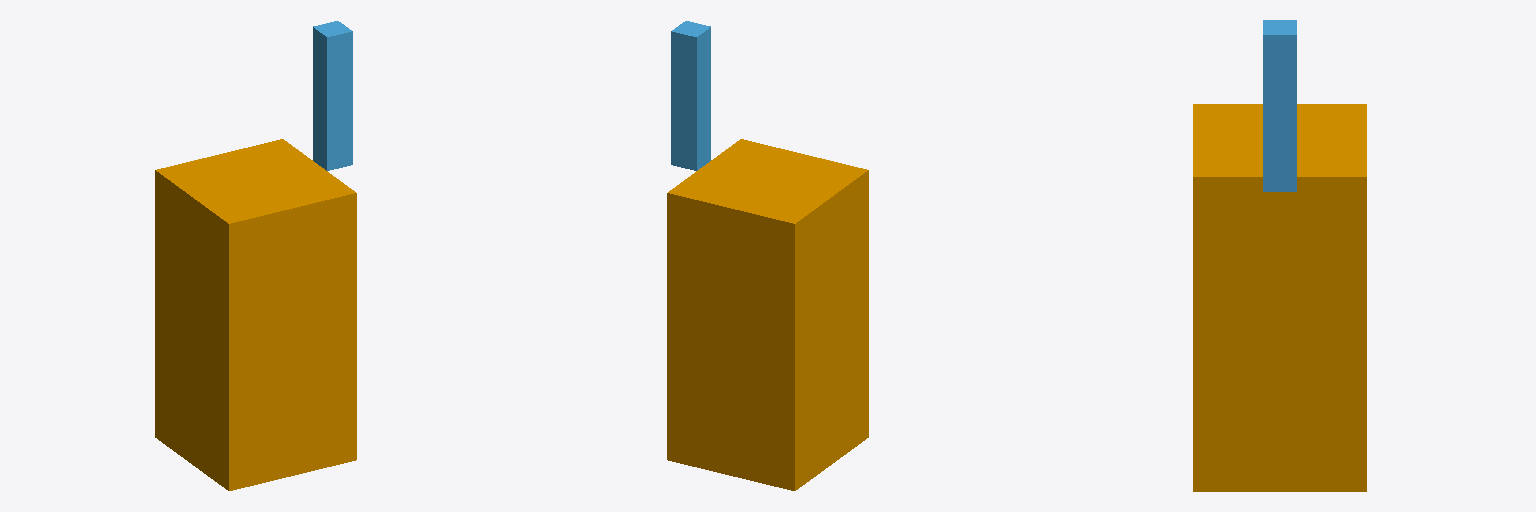
The robot description file, URDF, robot "my_robot":
<?xml version="1.0" ?>
<robot name="my_robot" xmlns:xacro="http://www.ros.org/wiki/xacro">
    
    <!-- 1st link -->
  <link name="link_chassis">
    <pose>0 0 0.1 0 0 0</pose>
    
    <inertial>
      <mass value="5"/>
      <origin xyz="0 0 0.1" rpy="0 0 0"/>
      <inertia ixx="0.0395416666667" ixy="0" ixz="0" iyy="0.106208333333" iyz="0" izz="0.106208333333"/>
    </inertial>
    
    <collision name="collision_chassis">
      <geometry>
        <box size="1 1 2"/>
      </geometry>
    </collision>
    
    <visual>
      <origin rpy="0 0 0" xyz="0 0 0"/>
      <geometry>
        <box size="1 1 2"/>
      </geometry>
    </visual>
  </link>
  
  <joint name="joint1" type="continuous">
    <origin xyz="0.6 0 1" rpy="0 0 0"/>
    <parent link="link_chassis"/>
    <child link="link_arm"/>
  </joint>
  
  <!-- 2nd link -->
  <link name="link_arm">
    <pose>0 0 0 0 0 0</pose>
    
    <inertial>
      <mass value="0.5"/>
      <origin xyz="0 0 0" rpy="0 0 0"/>
      <inertia ixx="0.0395416666667" ixy="0" ixz="0" iyy="0.106208333333" iyz="0" izz="0.106208333333"/>
    </inertial>
    
    <collision name="collision_chassis">
      <origin xyz="0 0 0.5" rpy="0 0 0"/>
      <geometry>
        <box size="0.2 0.2 1"/>
      </geometry>
    </collision>
    
    <visual>
      <origin xyz="0 0 0.5" rpy="0 0 0"/>
      <geometry>
        <box size="0.2 0.2 1"/>
      </geometry>
    </visual>
  </link>
 
</robot>

--- Render facts (derived) ---
Views: 3 orthographic renders of the robot side by side, from view 1: azimuth 30°, elevation 25°; view 2: azimuth 150°, elevation 25°; view 3: azimuth 270°, elevation 25°.
Robot: my_robot — 2 links, 1 joints (1 continuous); root link link_chassis; default pose: all joints at 0.
Links seen in each view (by area): view 1: link_chassis, link_arm; view 2: link_chassis, link_arm; view 3: link_chassis, link_arm.
Link boxes in pixels (x1,y1,x2,y2): link_chassis: (155, 139, 356, 490); link_arm: (313, 21, 352, 170); link_chassis: (667, 139, 868, 490); link_arm: (671, 21, 710, 170); link_chassis: (1193, 104, 1366, 491); link_arm: (1263, 20, 1296, 191).
Size in the robot's own frame: 1.2 by 1 by 3 metres.
Geometry: primitives only (box / cylinder / sphere), no mesh files.